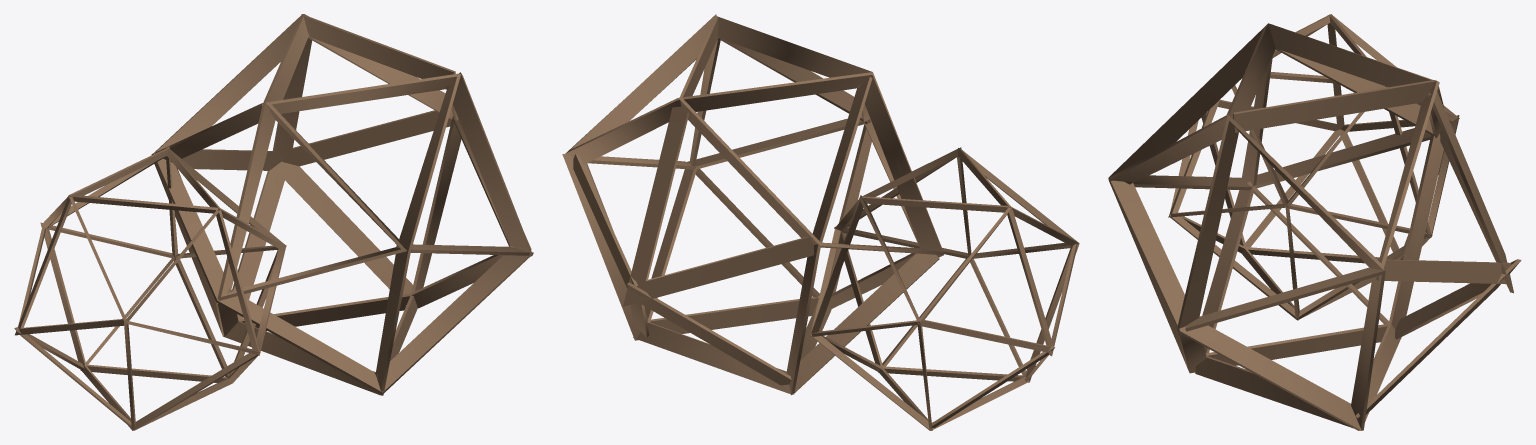
The model's file is cgt_Accessory_91_001.glb.
3 views of the same model, side by side, from view 1: azimuth 30°, elevation 25°; view 2: azimuth 150°, elevation 25°; view 3: azimuth 270°, elevation 25° (orthographic). The views are drawn at different scales.
Visible parts, largest first — view 1: cgt_Accessory_91_001; view 2: cgt_Accessory_91_001; view 3: cgt_Accessory_91_001.
Boxes of the visible parts, x1,y1,x2,y2 form: cgt_Accessory_91_001: (14, 14, 533, 430); cgt_Accessory_91_001: (562, 14, 1079, 430); cgt_Accessory_91_001: (1108, 14, 1521, 430).
Size of the model in its own units: 0.4371 by 0.2547 by 0.3074.
